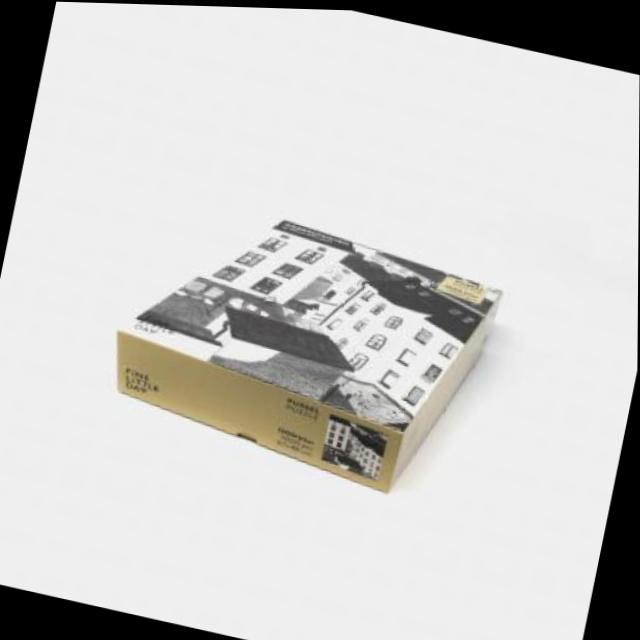box: (88, 169, 525, 531)
